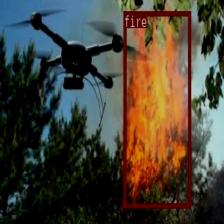fire: (123, 10, 190, 208)
